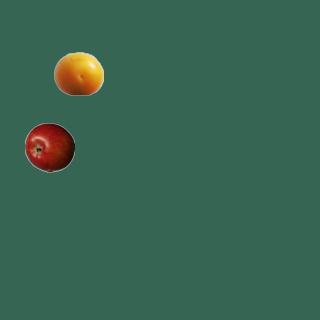Apple Braeburn: (24, 122, 74, 172)
Cherry Wax Yellow: (53, 48, 103, 98)
